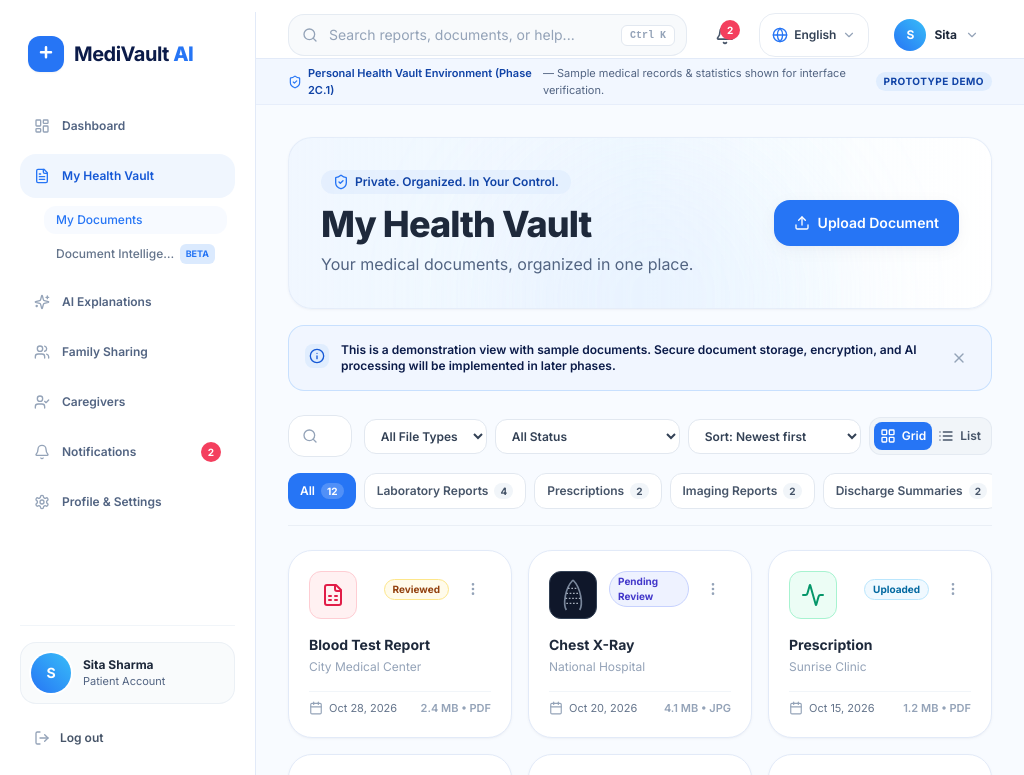
Test case: MediVault AI — Phase 2C.1 Personal Health Vault Frontend Suite › 8. filters documents by processing status dropdown
Select "Extraction Not Available" in the dropdown named "All Status" at (587, 436), box left=495, top=418, right=680, bottom=454
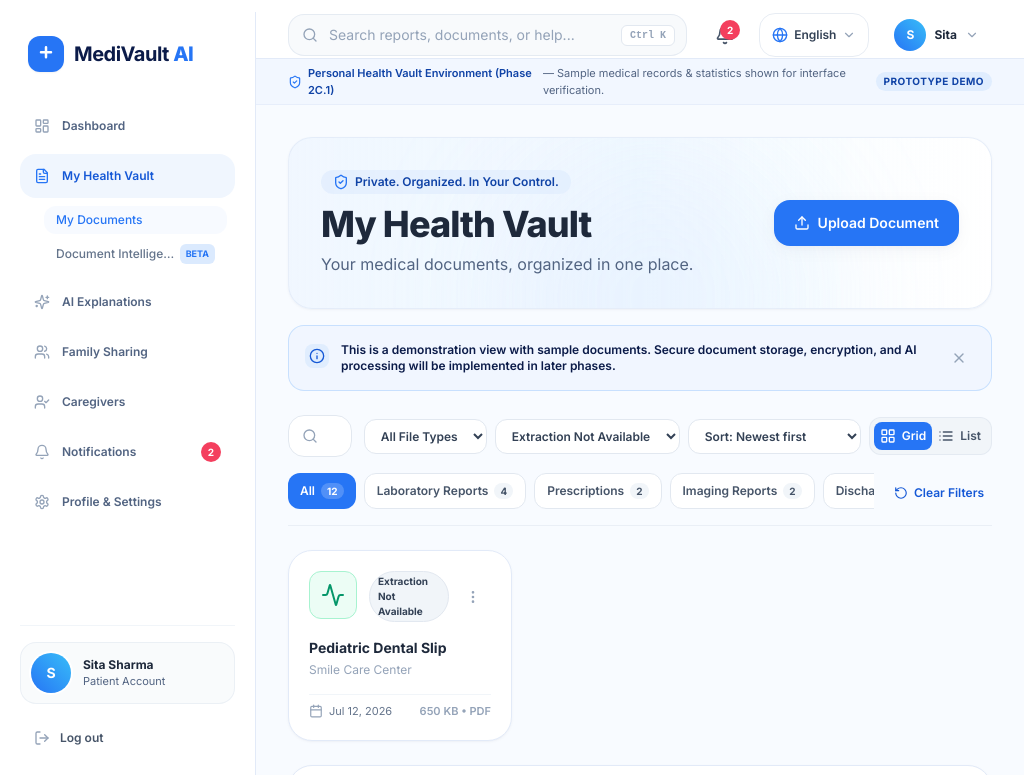
Check: the heading "Pediatric Dental Slip" is shown, box left=309, top=639, right=446, bottom=656
Check: the button "Blood Test Report" is gone
